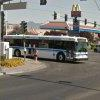Bus: (3, 29, 90, 64)
